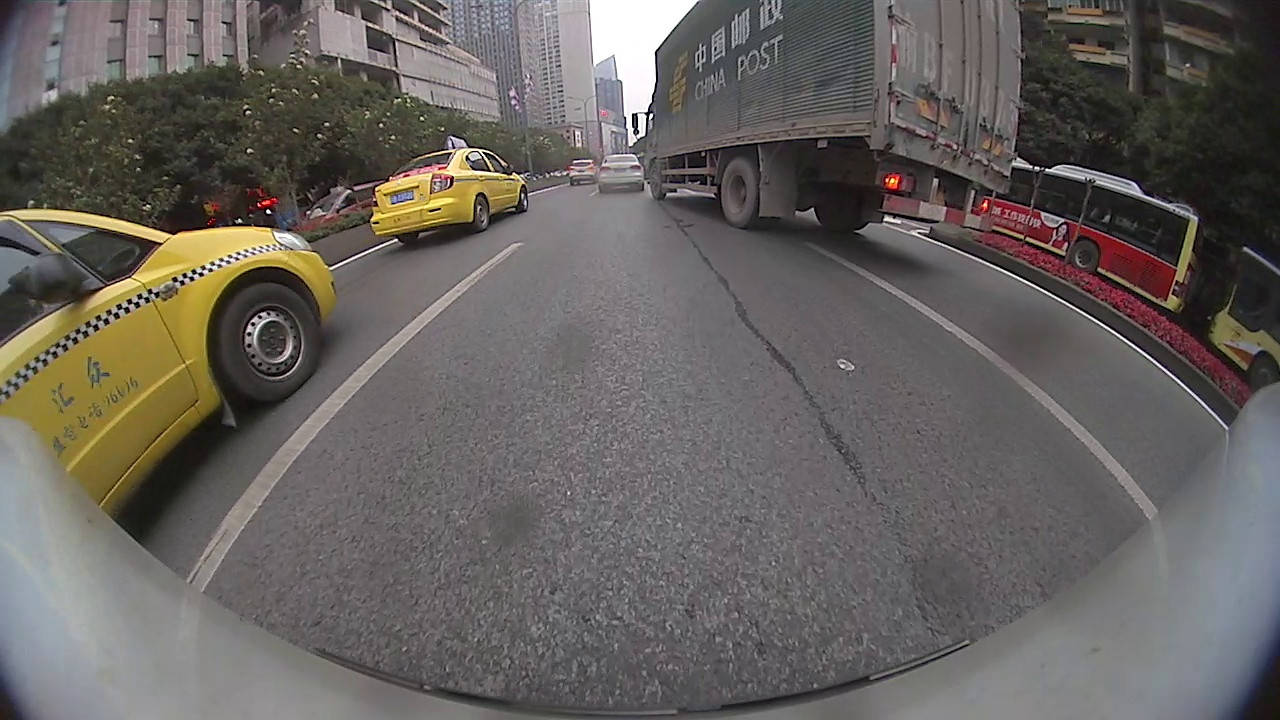bus: (970, 163, 1200, 313), (1207, 246, 1278, 389)
car: (1, 206, 338, 522), (369, 137, 530, 246), (295, 178, 388, 231), (597, 154, 644, 194), (565, 159, 598, 188)
front: (215, 280, 323, 400), (1245, 351, 1279, 390), (648, 163, 664, 201), (517, 181, 532, 214)
rear: (720, 158, 762, 224), (1069, 239, 1103, 275), (472, 195, 491, 230)
truck: (647, 0, 1022, 228)
